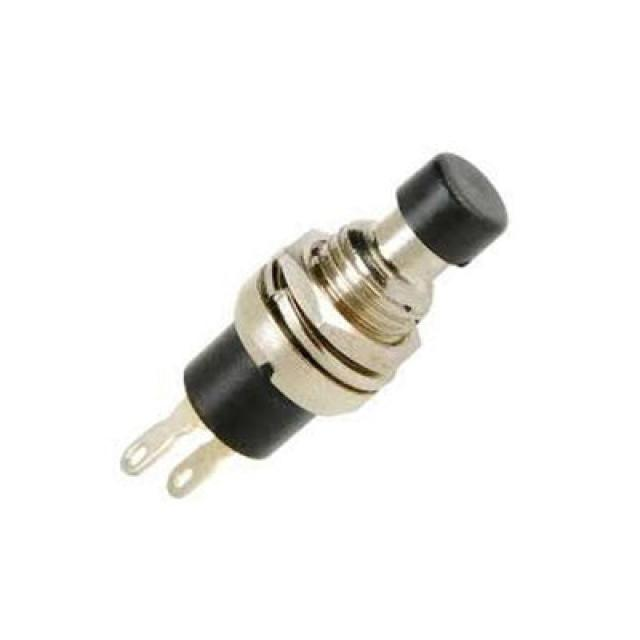Push button: (122, 154, 510, 477)
